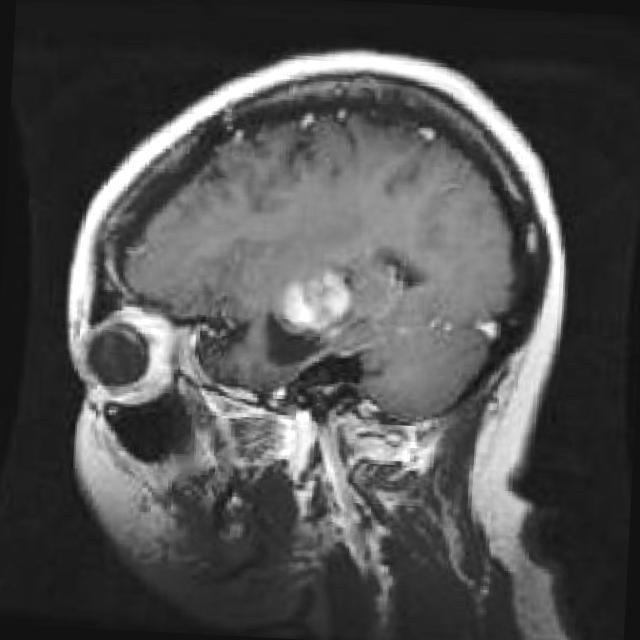MCI: (206, 243, 369, 371)
